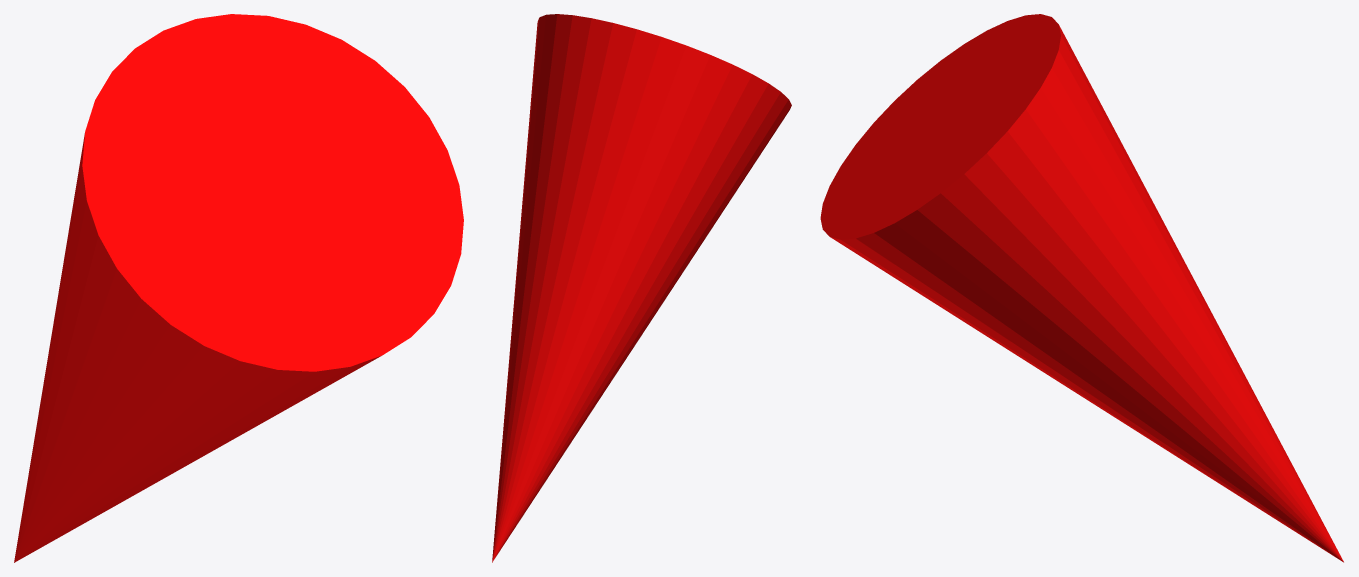
Rendered from PlayerLeftArm.obj.
3 views of the same model, side by side, from view 1: azimuth 30°, elevation 25°; view 2: azimuth 150°, elevation 25°; view 3: azimuth 270°, elevation 25° (orthographic). The views are drawn at different scales.
Parts seen in each view (by area): view 1: LeftArm; view 2: LeftArm; view 3: LeftArm.
Part boxes in pixels (x1,y1,x2,y2): LeftArm: (14, 14, 463, 562); LeftArm: (492, 14, 791, 562); LeftArm: (820, 14, 1343, 562).
Size of the model in its own units: 1 by 1.85 by 1.67.
